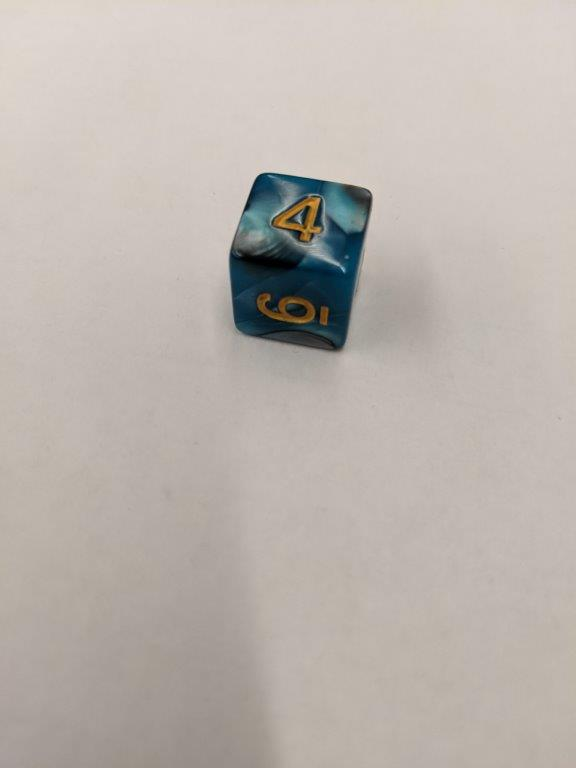d6-4: (229, 171, 373, 350)
